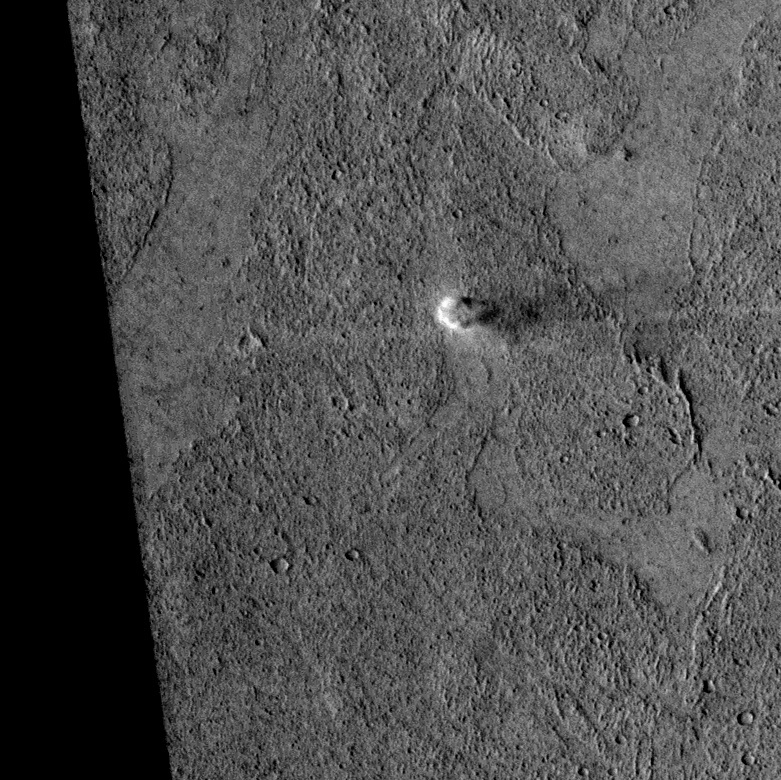dust_devil: (434, 292, 545, 347)
